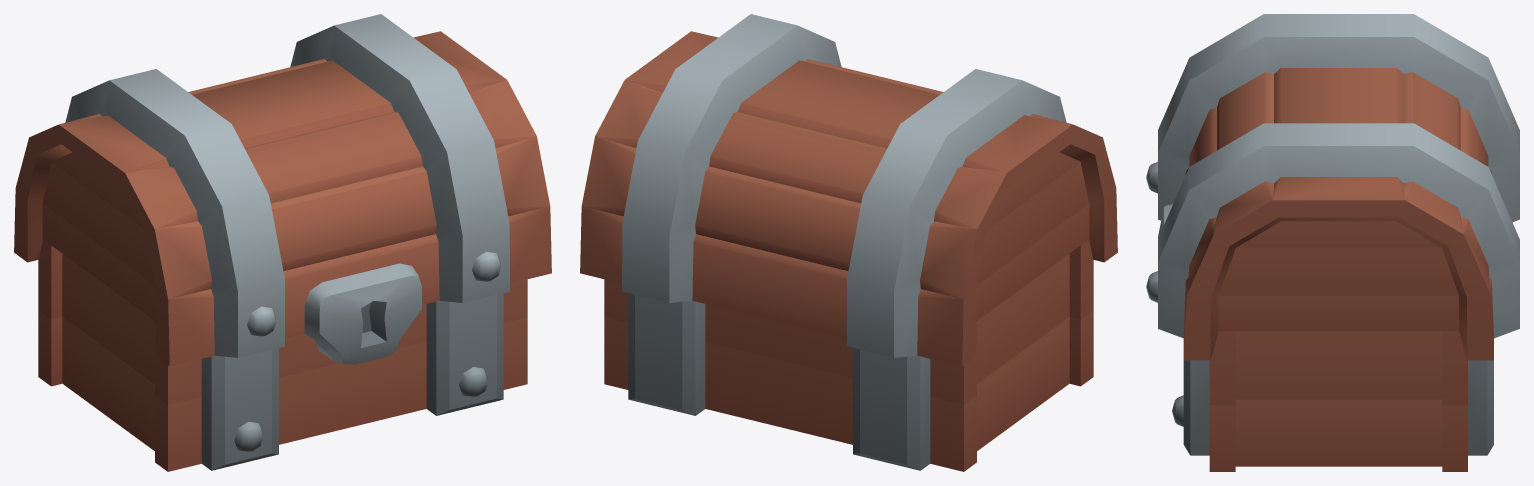
The model's file is chest_gold.glb.
3 renders of one model, left to right at view 1: azimuth 30°, elevation 25°; view 2: azimuth 150°, elevation 25°; view 3: azimuth 270°, elevation 25°, orthographic.
Parts seen in each view (by area): view 1: chest_gold_lid, Cube.14744; view 2: chest_gold_lid, Cube.14744; view 3: chest_gold_lid, Cube.14744.
Boxes of the visible parts, x1,y1,x2,y2 form: chest_gold_lid: (14, 14, 551, 366); Cube.14744: (38, 239, 527, 471); chest_gold_lid: (580, 14, 1117, 366); Cube.14744: (604, 239, 1093, 471); chest_gold_lid: (1146, 14, 1519, 360); Cube.14744: (1172, 331, 1493, 471).
Size of the model in its own units: 1.7 by 1.3 by 1.45.
1 material, 1 textured.
